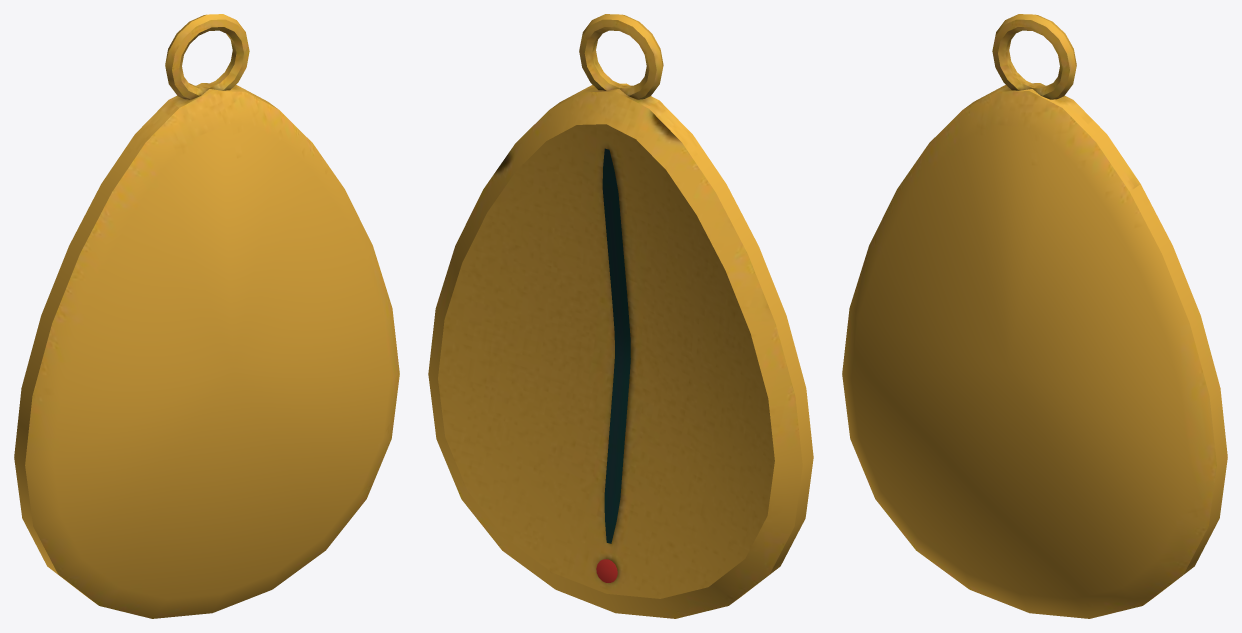
3 views of the same model, side by side, from view 1: azimuth 30°, elevation 25°; view 2: azimuth 150°, elevation 25°; view 3: azimuth 330°, elevation 25° (orthographic).
Parts seen in each view (by area): view 1: Polished_sunset_brass; view 2: Polished_sunset_brass, Lagoon_teal_enamel; view 3: Polished_sunset_brass.
Part boxes in pixels (bbox=[...]): Polished_sunset_brass: bbox=[14, 14, 399, 618]; Polished_sunset_brass: bbox=[428, 14, 813, 618]; Lagoon_teal_enamel: bbox=[602, 148, 630, 543]; Polished_sunset_brass: bbox=[842, 14, 1227, 618].
Bounding box in the file's own units: 0.5933 × 0.9 × 0.1141.
Materials: 3 (3 with a texture image).
